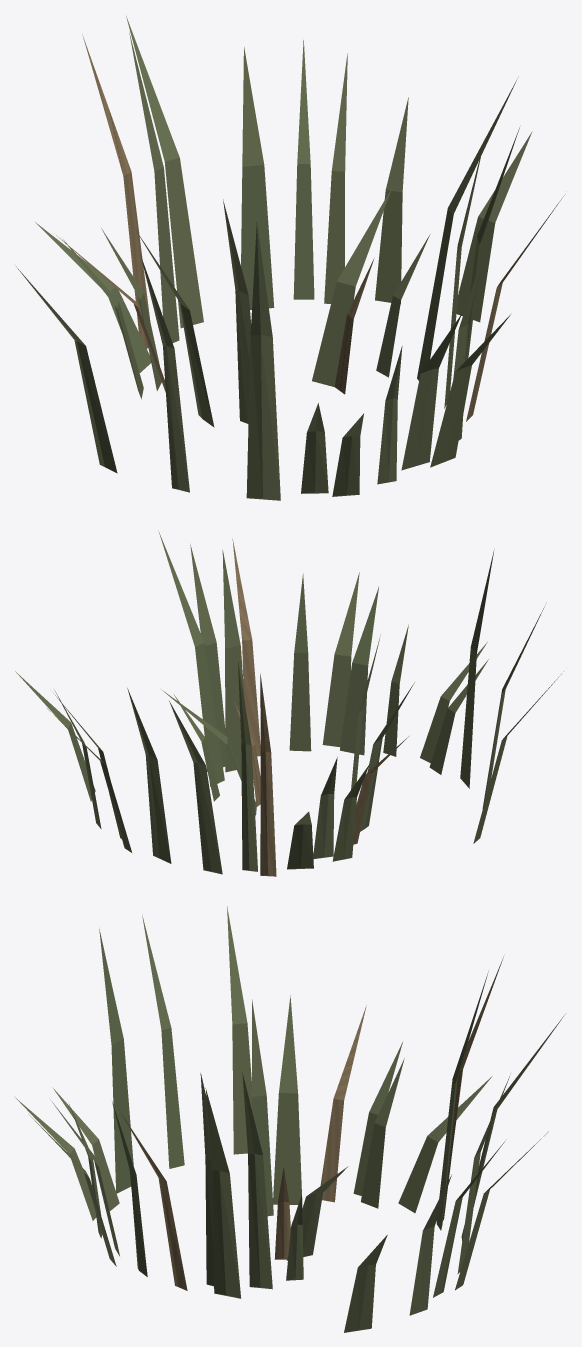
The model's file is grass_clump.glb.
3 renders of one model, top to bottom at view 1: azimuth 30°, elevation 25°; view 2: azimuth 150°, elevation 25°; view 3: azimuth 270°, elevation 25°, orthographic. The views are drawn at different scales.
Visible parts, largest first — view 1: DD_grass_clump; view 2: DD_grass_clump; view 3: DD_grass_clump.
Boxes of the visible parts, bbox=[...] form: DD_grass_clump: bbox=[16, 16, 564, 500]; DD_grass_clump: bbox=[15, 531, 561, 876]; DD_grass_clump: bbox=[14, 906, 564, 1332].
Size of the model in its own units: 0.6124 by 0.282 by 0.5596.
Materials: 2 (1 with a texture image).
